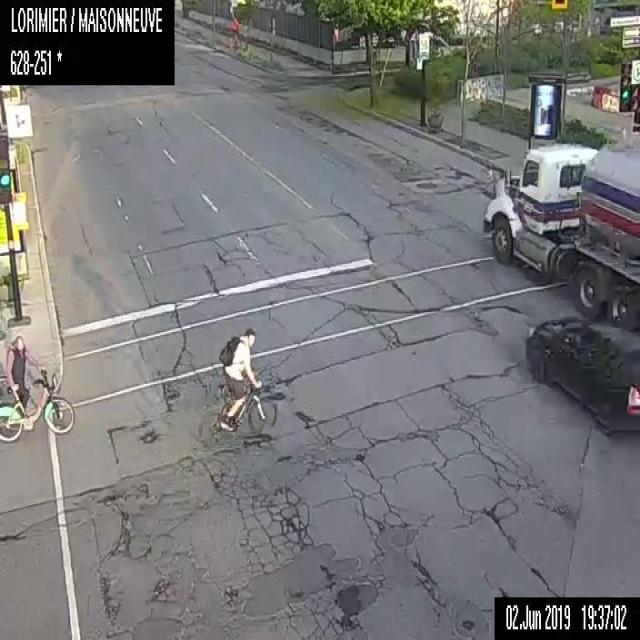cyclist: (196, 328, 276, 441)
pedestrian: (0, 333, 74, 440)
vehicle: (484, 141, 639, 332), (524, 317, 639, 432)
